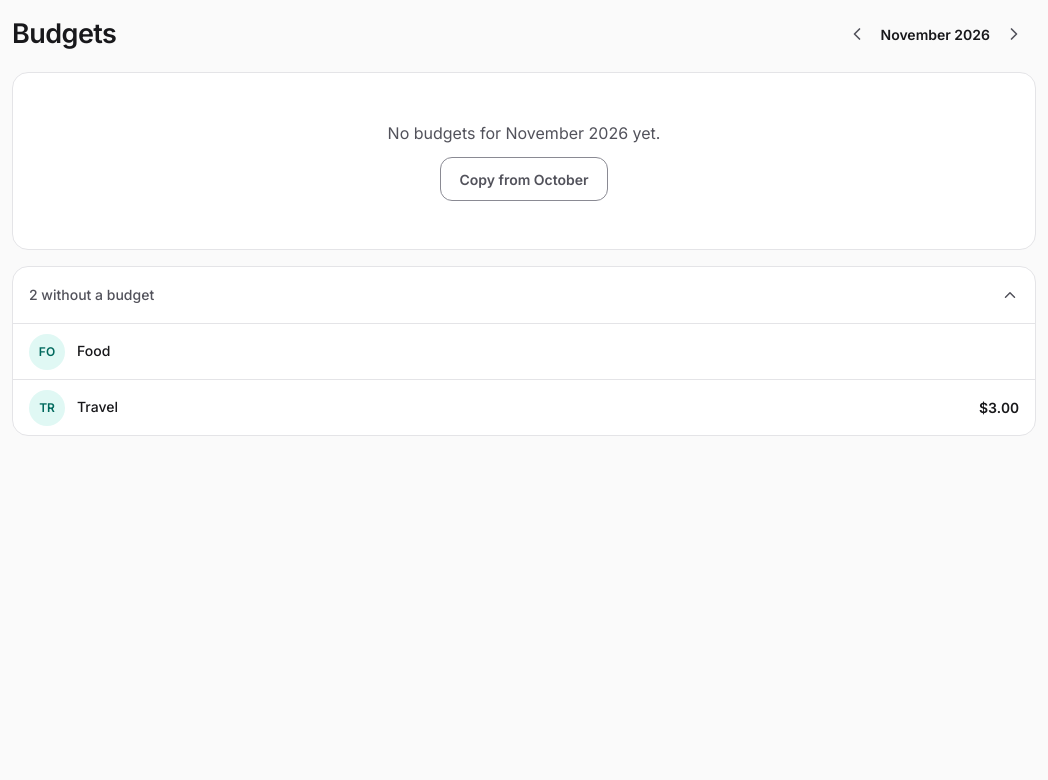
an empty month › says so and offers to copy last month, with the fold open
The image size is (1048, 780).
Expected: the text "No budgets for November 2026 yet." is shown, [388, 121, 660, 145]
Click the button "Copy from October". click: {"x": 524, "y": 179}
box: [440, 157, 608, 201]
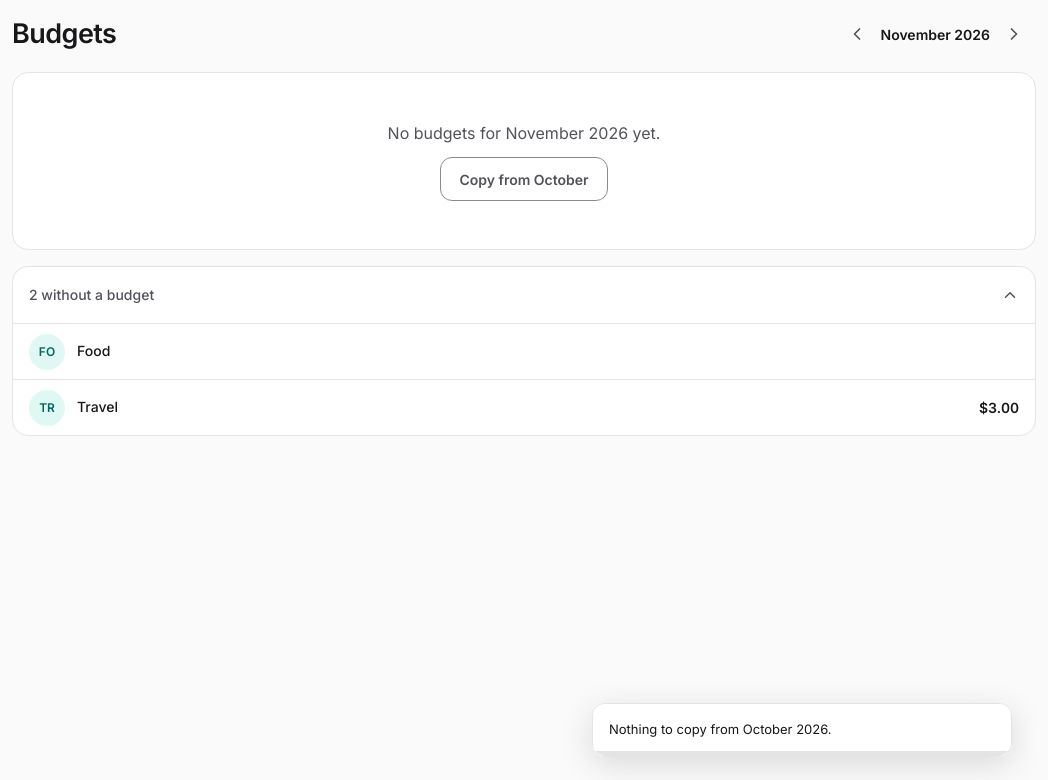
Result: the text "Nothing to copy from October 2026." is shown at [609, 720, 832, 736]
